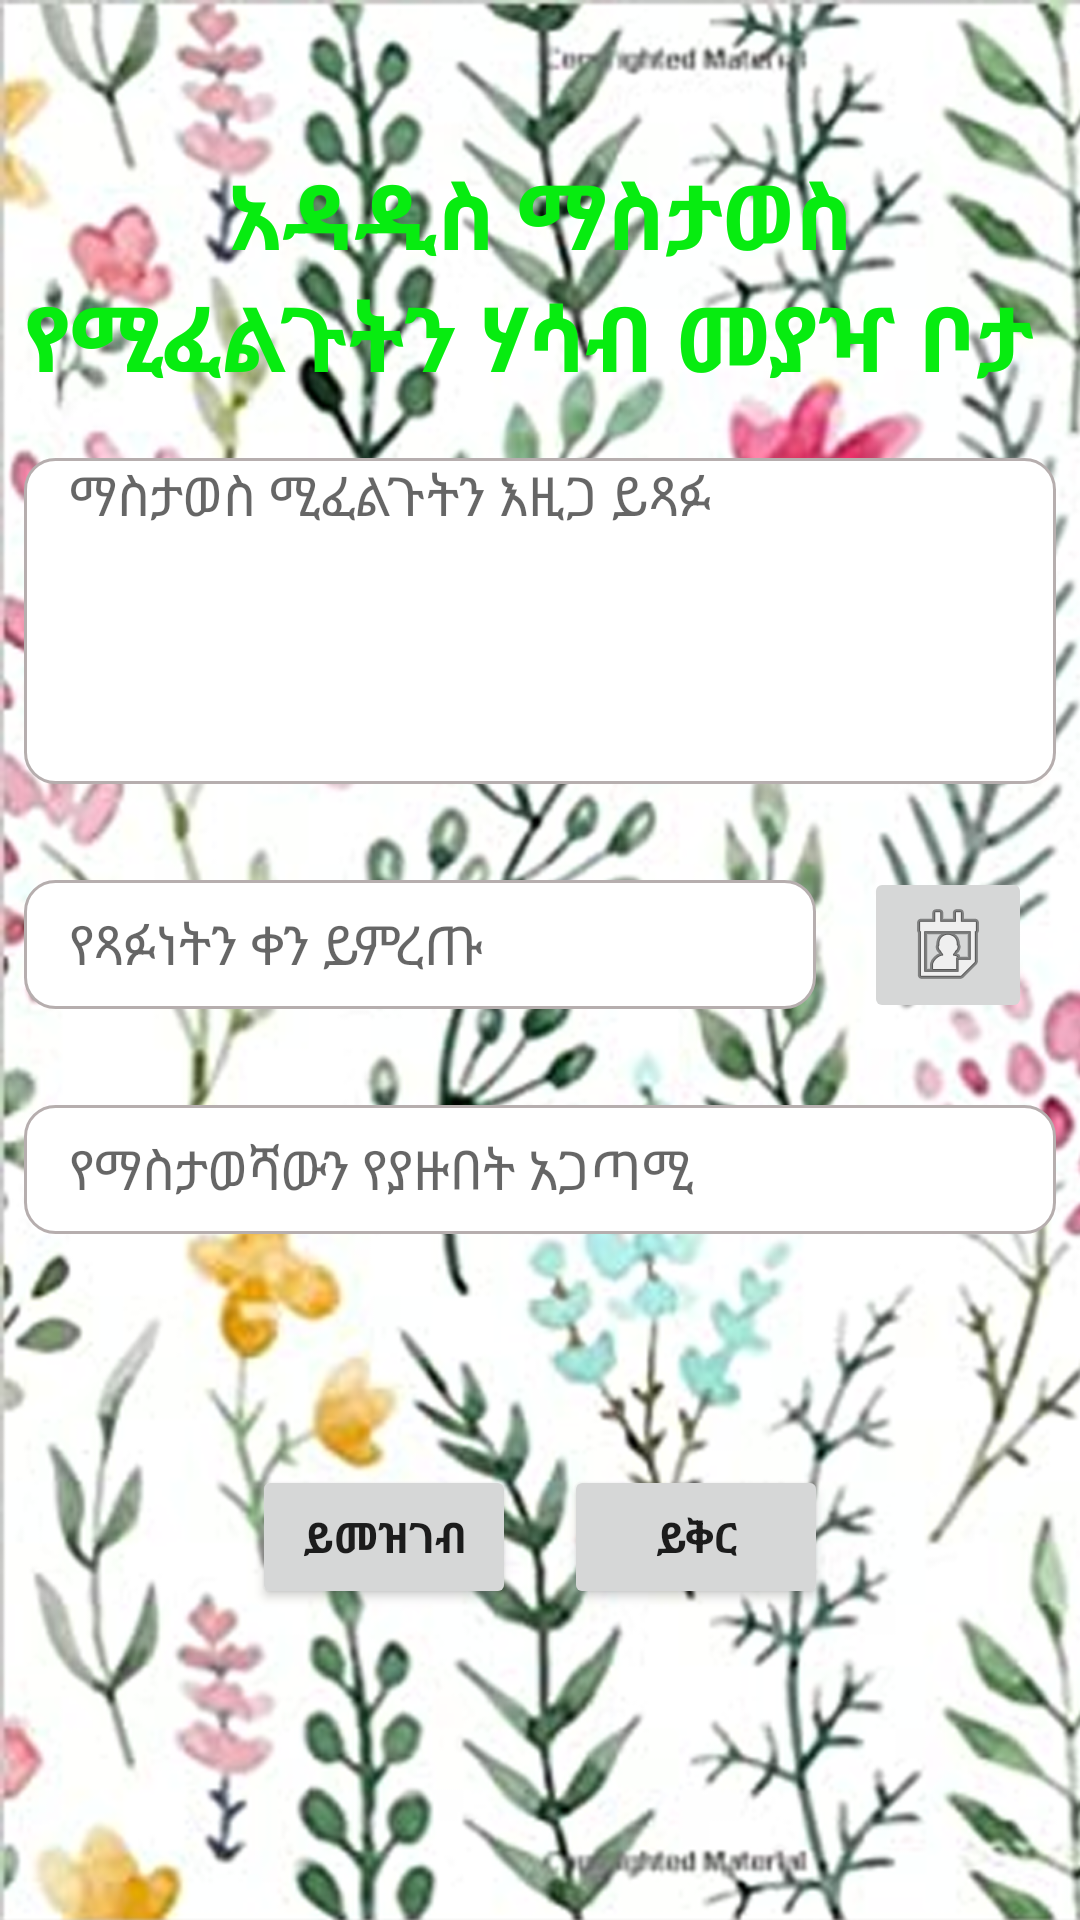

Icon click points for this 1080px×1920px phone screenshot, format (x,y):
calendar: (954,945)
